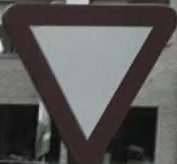Give way: (5, 3, 171, 159)
